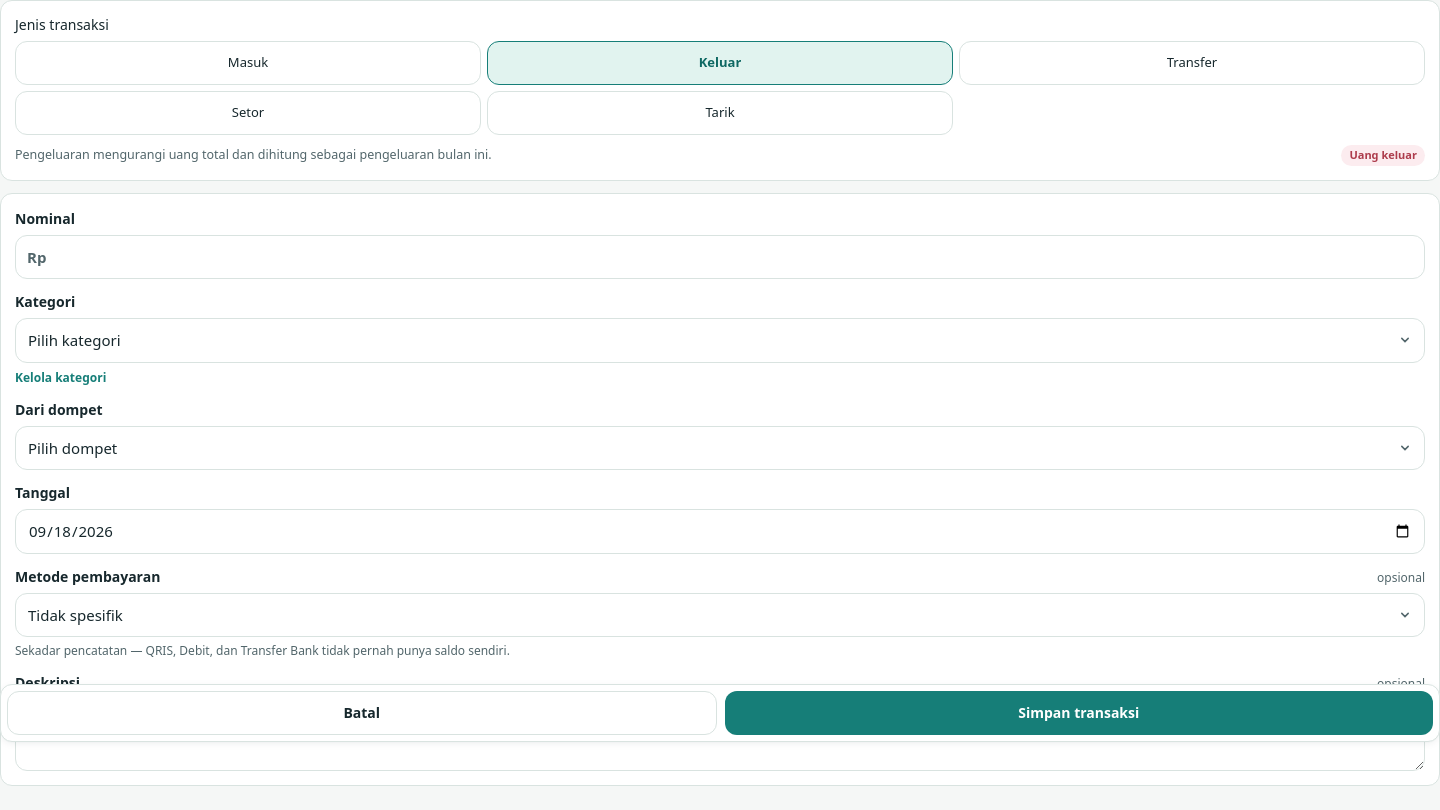
Test case: TransactionForm (real create flow, no placeholders) › rejects an empty amount and a missing category before hitting the domain
Click the button "Simpan transaksi".
click(1079, 713)  # box [724,691,1433,735]
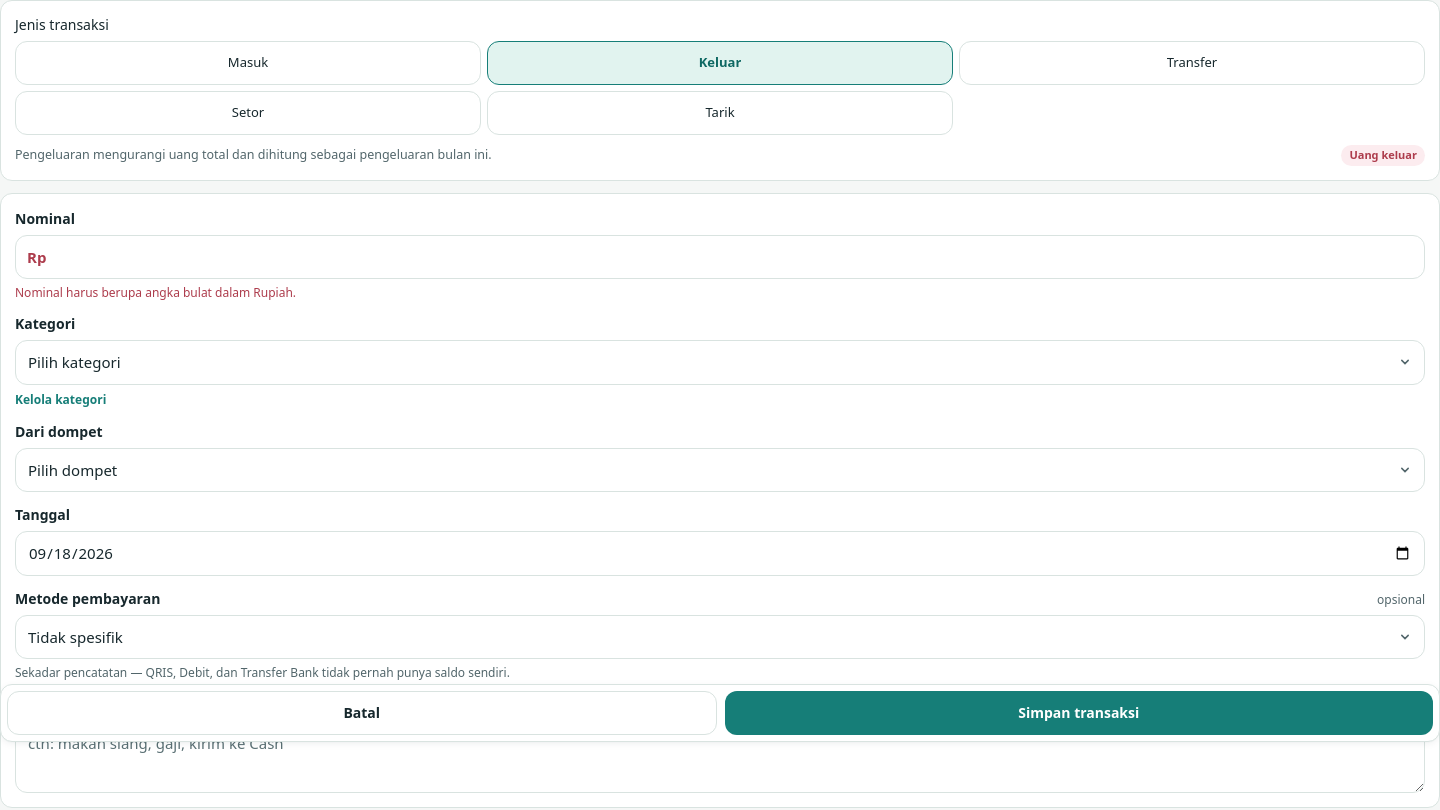
Now the message "Nominal harus berupa angka bulat dalam Rupiah." is shown, box [15,284,296,301]
